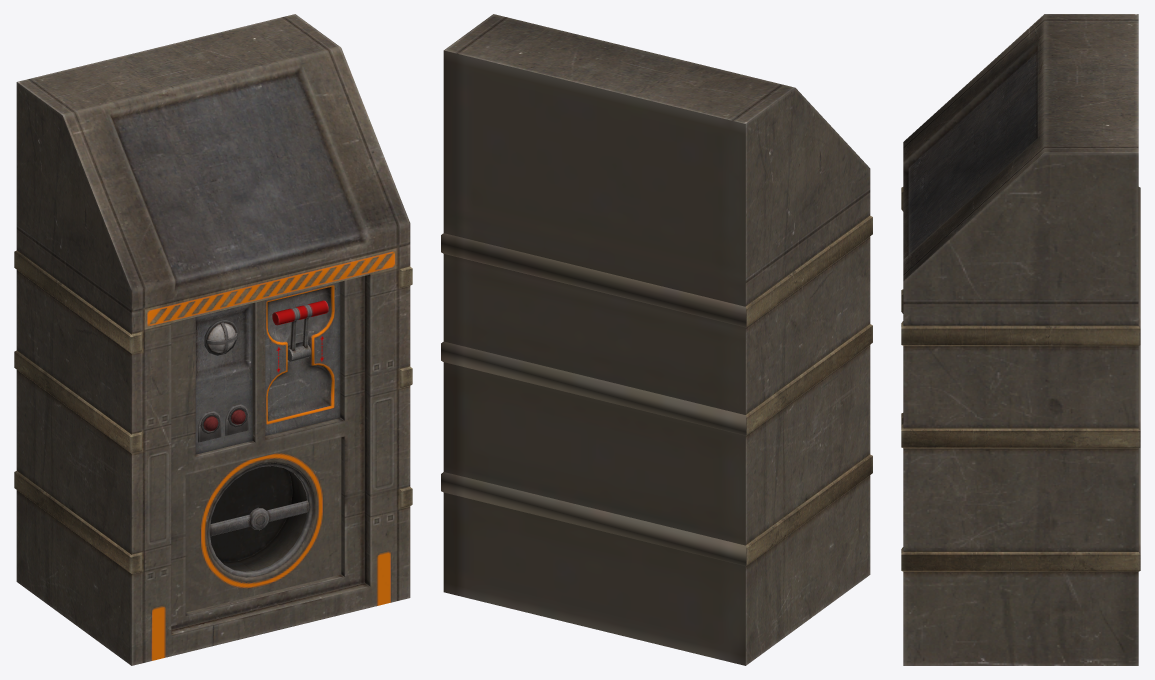
File: assembly_line_power_control.dae
3 views of the same model, side by side, from view 1: azimuth 30°, elevation 25°; view 2: azimuth 150°, elevation 25°; view 3: azimuth 270°, elevation 25° (orthographic). The views are drawn at different scales.
Visible parts, largest first — view 1: low, handle; view 2: low; view 3: low.
Part boxes in pixels (x1,y1,x2,y2): low: [14, 14, 412, 665]; handle: [272, 300, 328, 361]; low: [441, 14, 872, 665]; low: [901, 14, 1140, 665].
Bounding box in the file's own units: 1.77 × 3 × 1.27.
